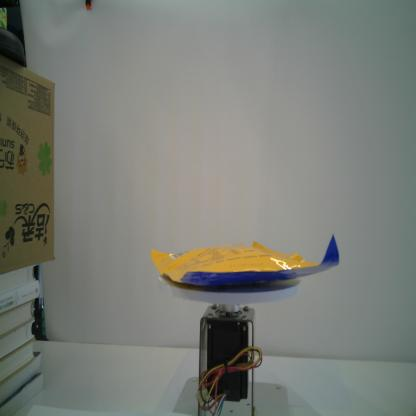Dried Fruit: (151, 232, 340, 287)
